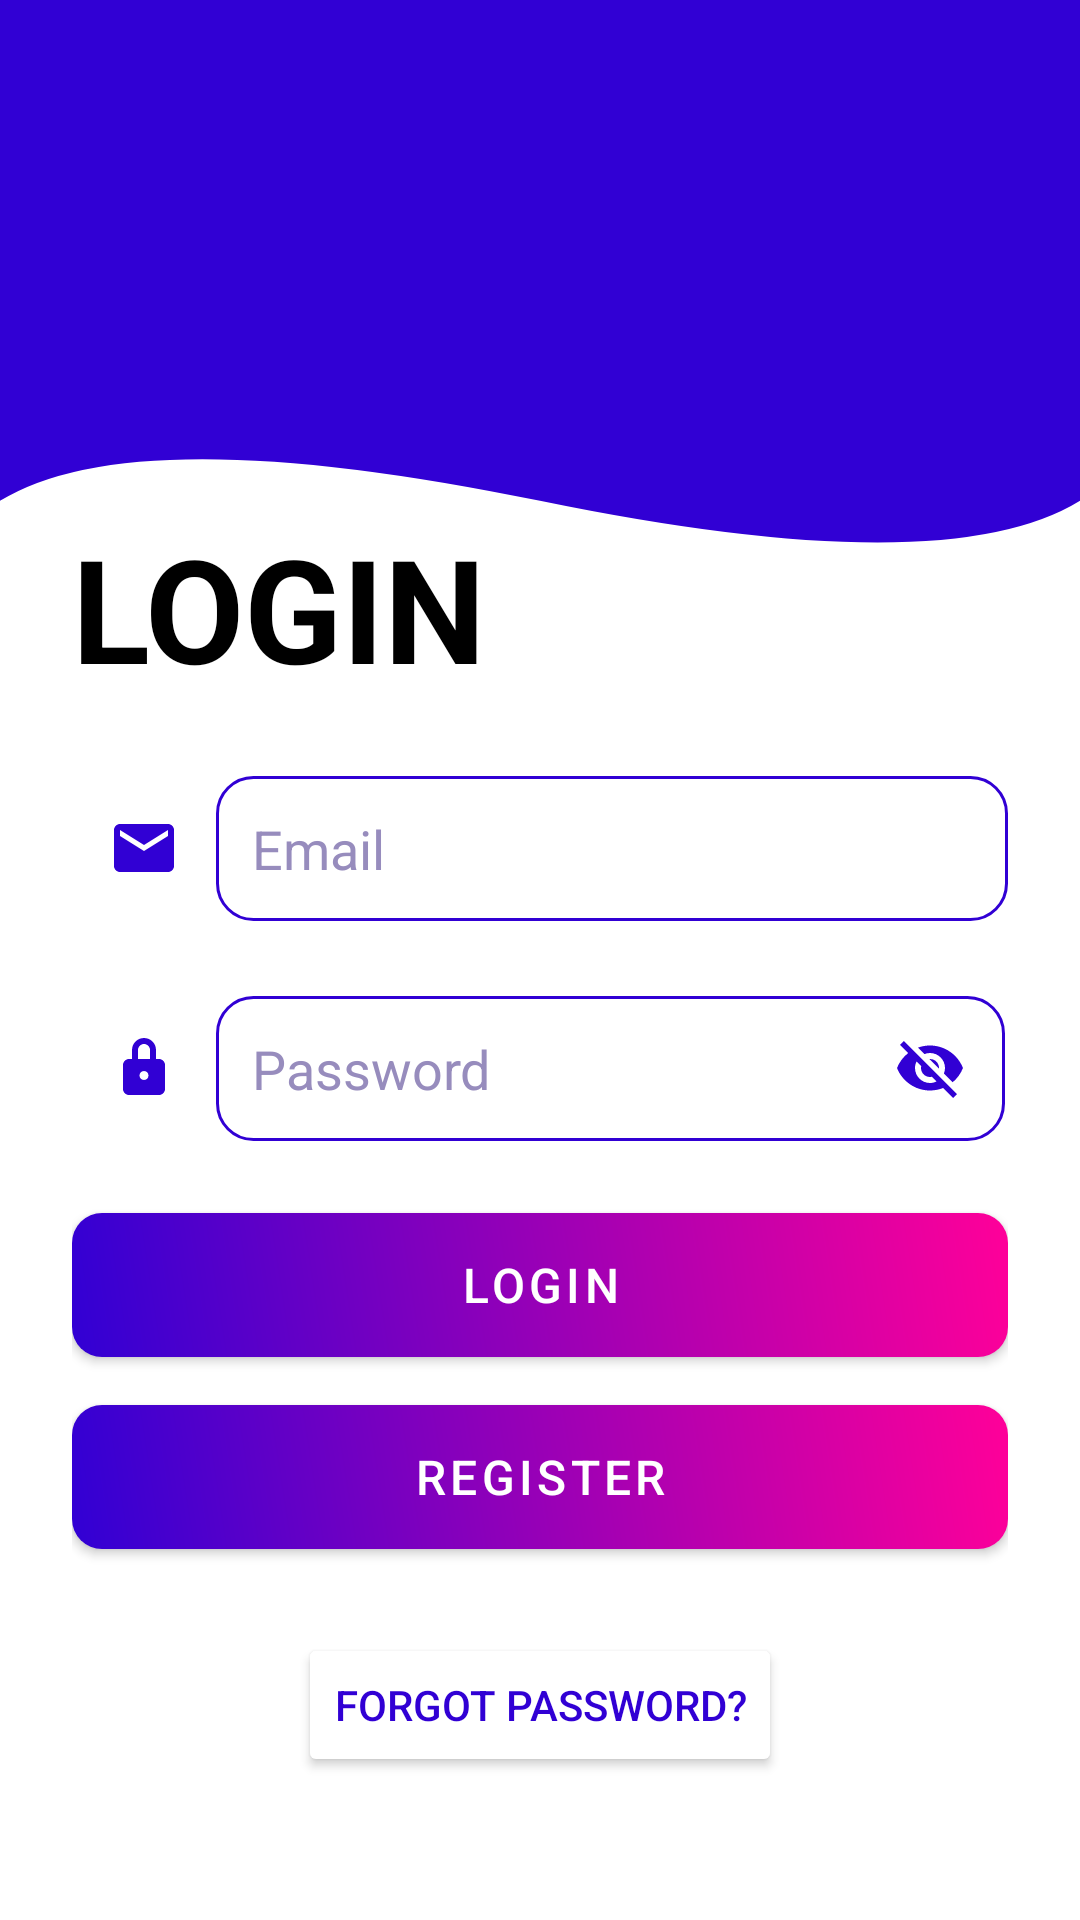

Icon click points for this 1080 × 1920 phone screenshot, format [x,y]:
Lock Icon: [144,1066]
Mail Icon: [144,848]
